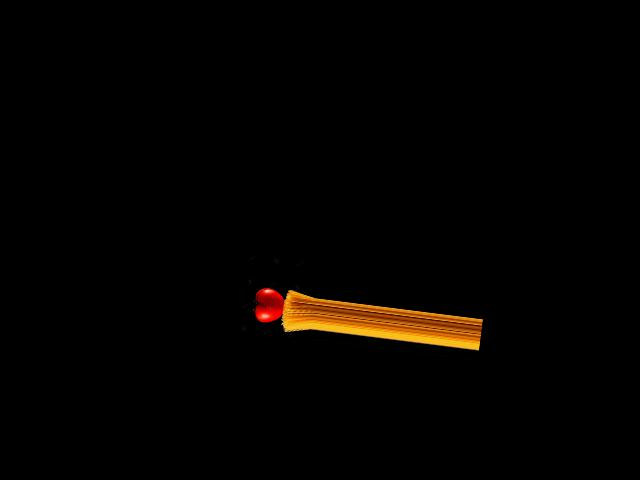tomato: (252, 287, 285, 324)
